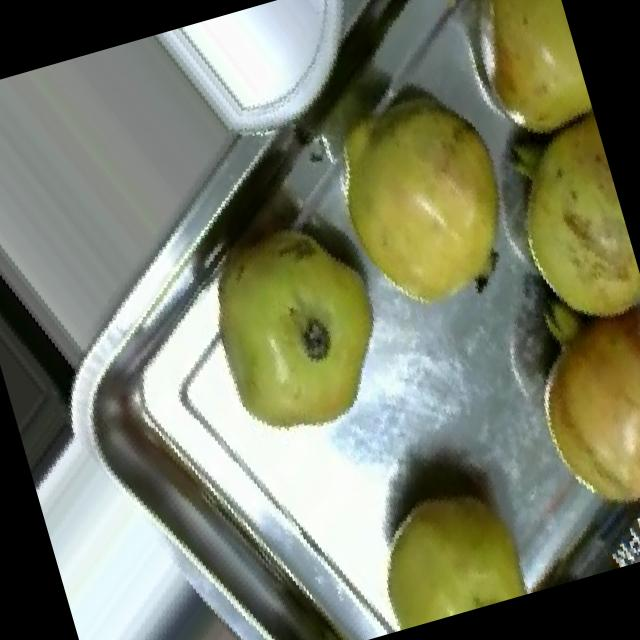fruit: (143, 164, 435, 486), (283, 44, 564, 359), (327, 442, 558, 640), (487, 272, 640, 552), (474, 105, 640, 354), (427, 0, 601, 171)
